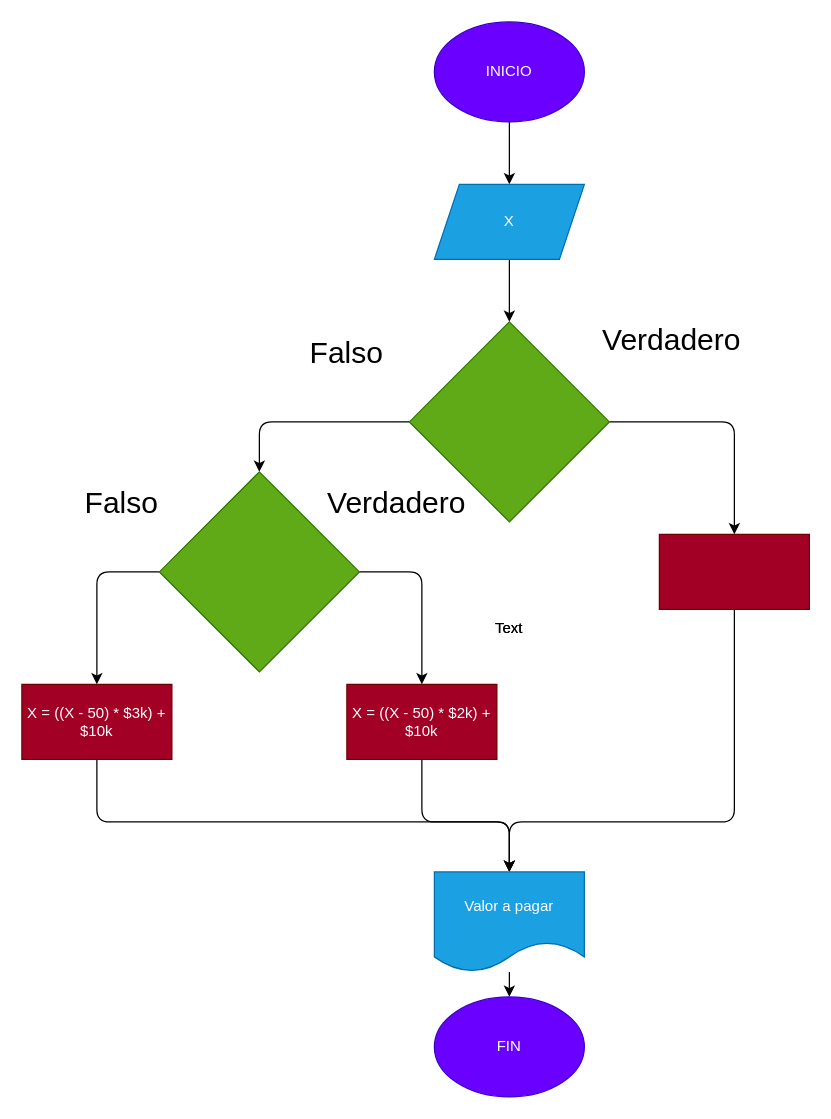
The diagram is 831 pixels wide and 1119 high, and some of its shapes have lost their labels. Each missing label, with the box of its shape:
X < 50 m3: (408, 321, 609, 522)
X = $10k: (658, 533, 809, 609)
X > 200 m3: (158, 471, 359, 672)
